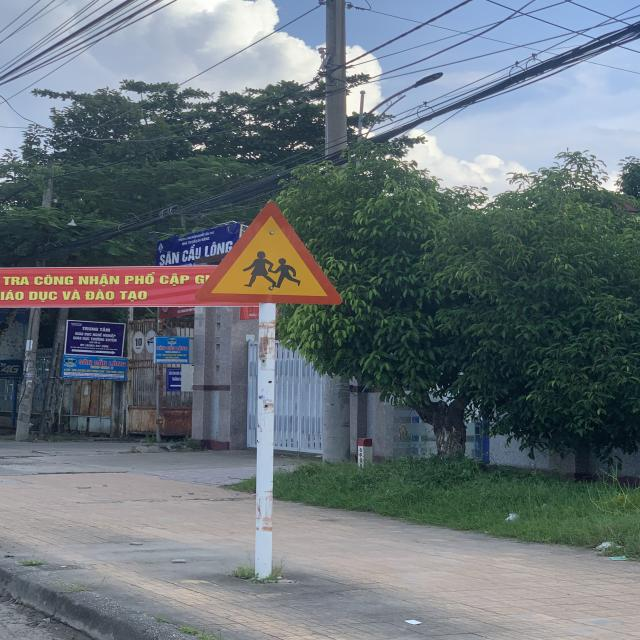Vong_Xuyen: (191, 205, 341, 308)
